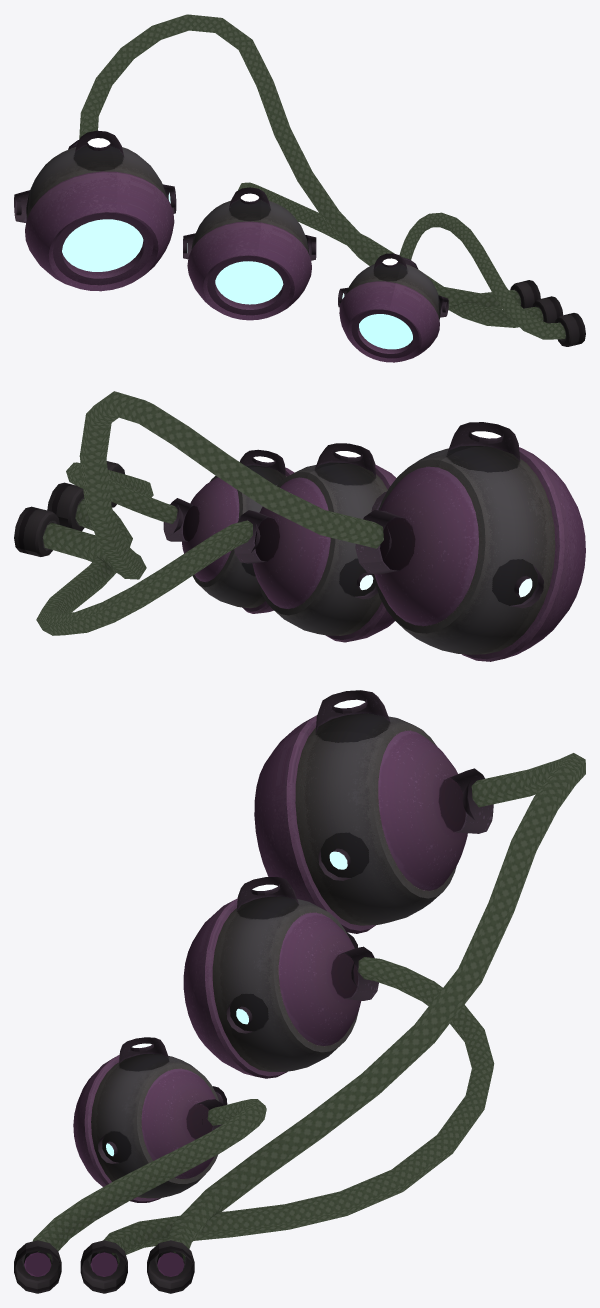
The model's file is kickdrum_sphere.glb.
3 renders of one model, top to bottom at view 1: azimuth 30°, elevation 25°; view 2: azimuth 150°, elevation 25°; view 3: azimuth 270°, elevation 25°, orthographic. The views are drawn at different scales.
Parts seen in each view (by area): view 1: Cylinder.005; view 2: Cylinder.005; view 3: Cylinder.005.
Part boxes in pixels (left/top/right/bottom): Cylinder.005: left=14, top=14, right=585, bottom=362; Cylinder.005: left=14, top=391, right=585, bottom=661; Cylinder.005: left=14, top=690, right=585, bottom=1293.
Size of the model in its own units: 31.58 by 17.82 by 24.07.
Materials: 2 (1 with a texture image).
